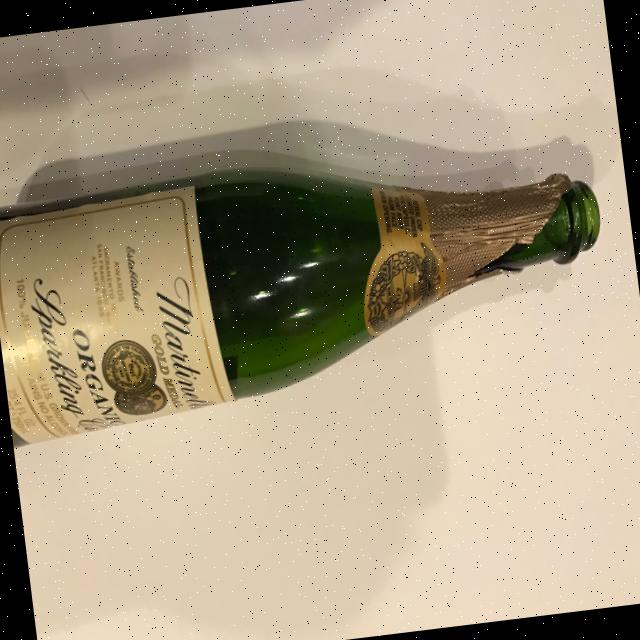glass: (0, 105, 619, 446)
